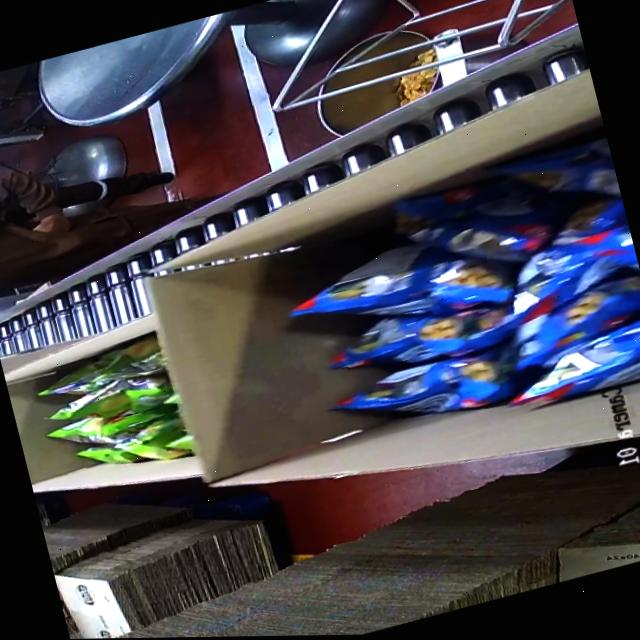PAPRIKA: (265, 140, 640, 466)
